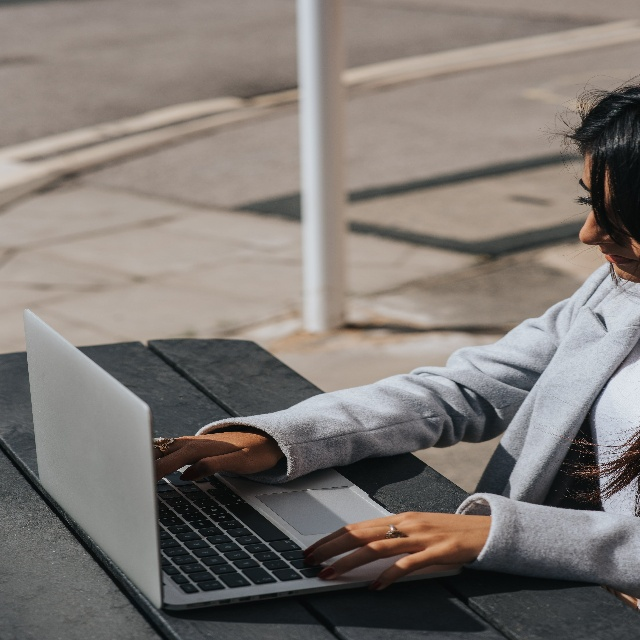Sin_guantes: (302, 510, 490, 593), (149, 429, 278, 482)
